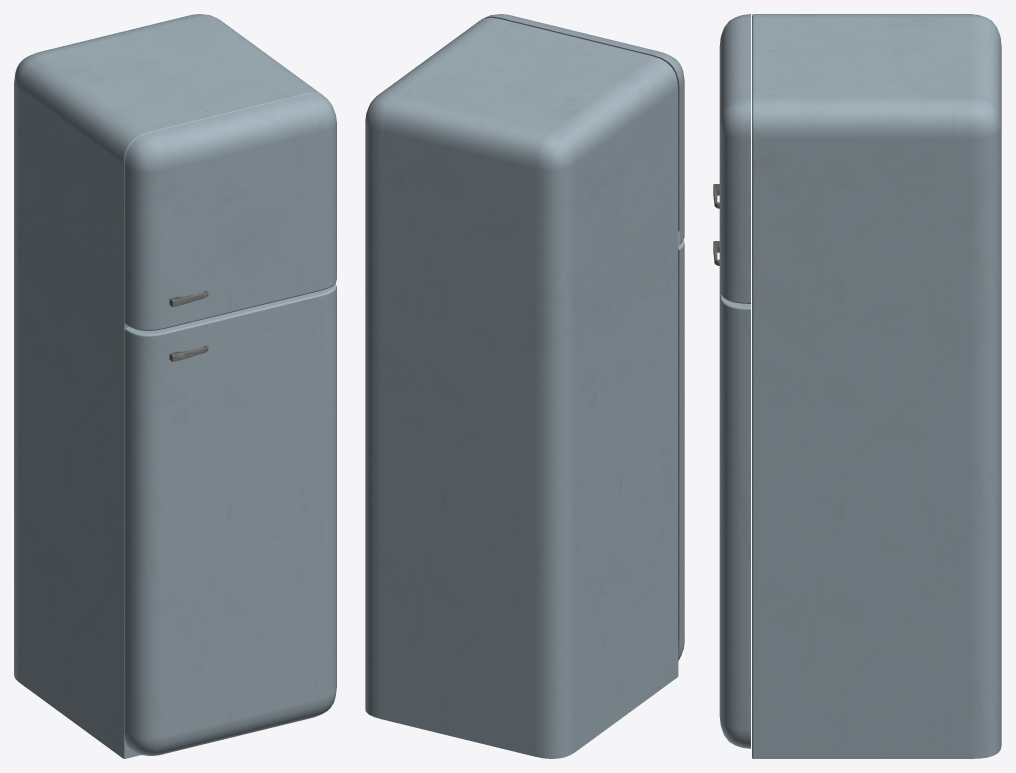
The model's file is Fridge.FBX.
3 views of the same model, side by side, from view 1: azimuth 30°, elevation 25°; view 2: azimuth 150°, elevation 25°; view 3: azimuth 270°, elevation 25° (orthographic). The views are drawn at different scales.
Parts seen in each view (by area): view 1: Fridge; view 2: Fridge; view 3: Fridge.
Part boxes in pixels (box(x1,y1,x2,y2)): Fridge: box(14, 14, 336, 758); Fridge: box(365, 14, 684, 758); Fridge: box(713, 14, 1001, 758).
Size of the model in its own units: 60 by 172 by 69.28.
